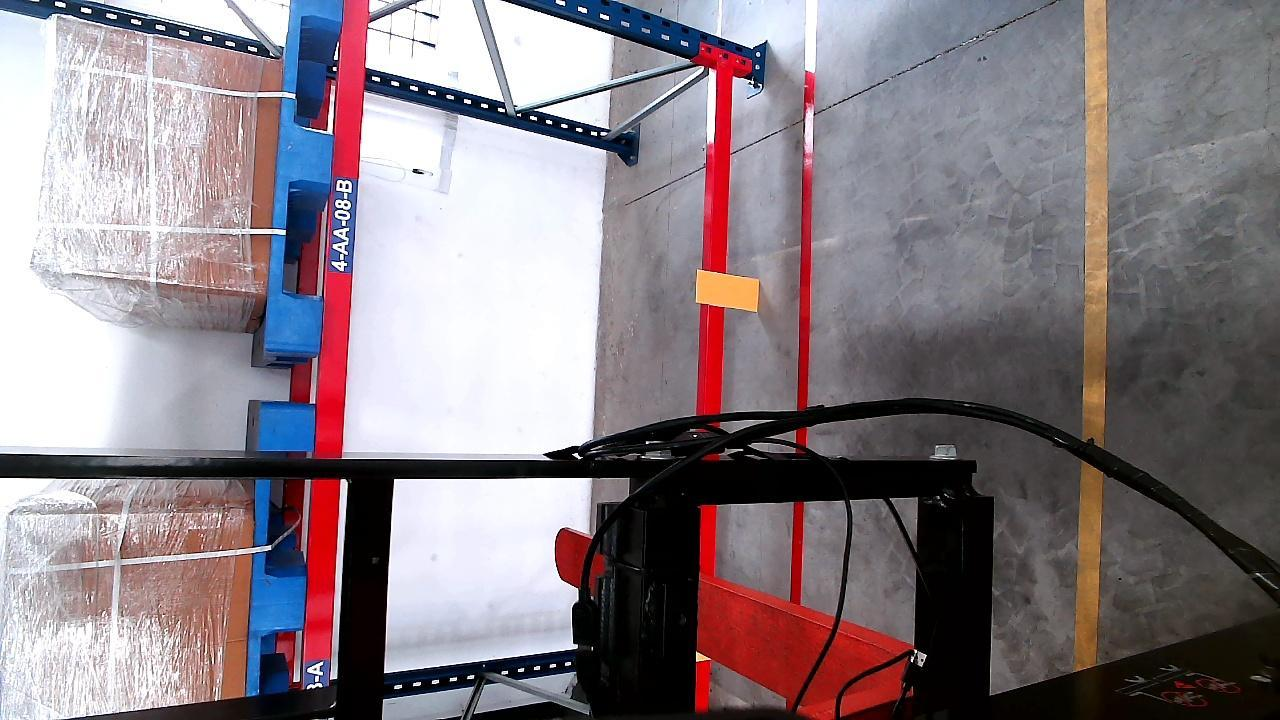red_line: (790, 0, 818, 601)
yellow_line: (1077, 0, 1107, 668)
